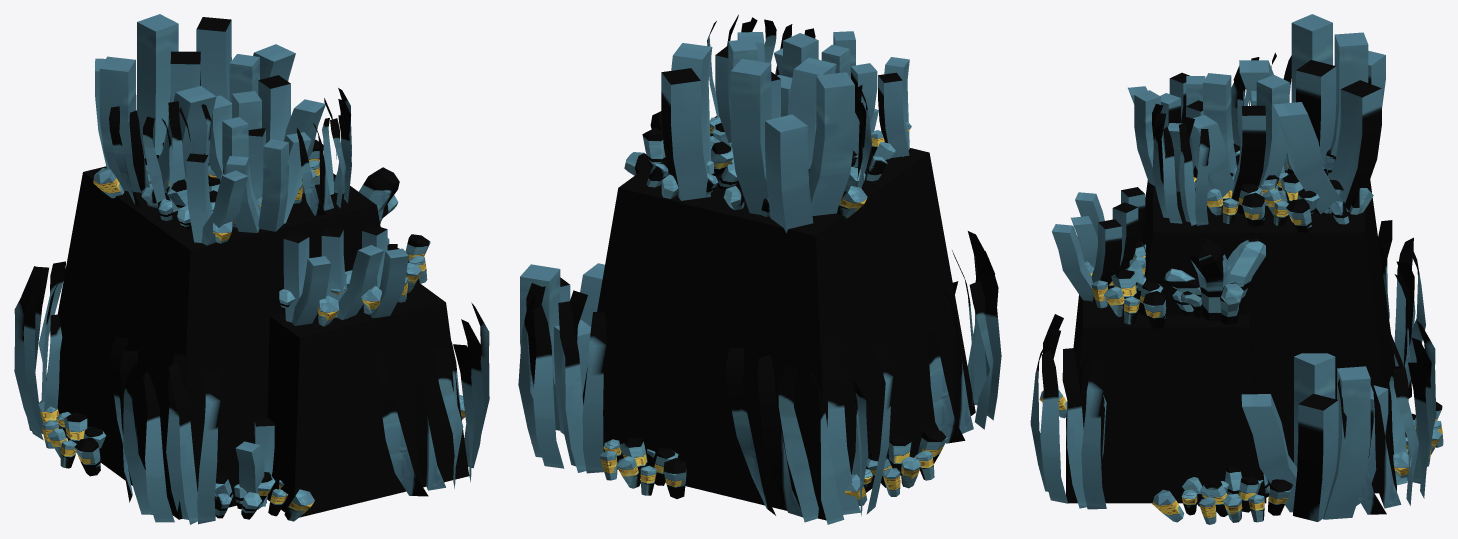
File: tile_01.fbx
3 views of the same model, side by side, from view 1: azimuth 30°, elevation 25°; view 2: azimuth 150°, elevation 25°; view 3: azimuth 270°, elevation 25° (orthographic). The views are drawn at different scales.
Parts seen in each view (by area): view 1: 立方体.012, 立方体; view 2: 立方体.012, 立方体; view 3: 立方体.012, 立方体.
Boxes of the visible parts, box(x1,y1,x2,y2) form: 立方体.012: box(14, 14, 489, 524); 立方体: box(46, 153, 469, 519); 立方体.012: box(518, 14, 1001, 524); 立方体: box(582, 116, 975, 520); 立方体.012: box(1030, 14, 1443, 524); 立方体: box(1066, 170, 1396, 503).
Bounding box in the file's own units: 606 × 624 × 609.
